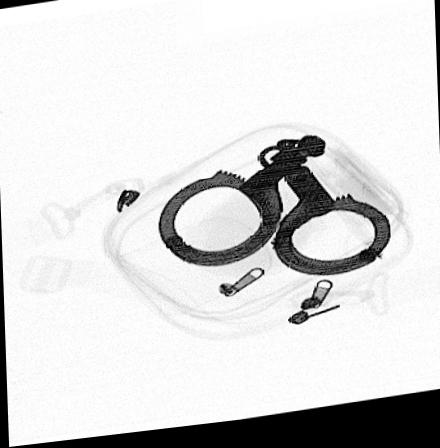HandCuffs: (153, 140, 392, 283)
